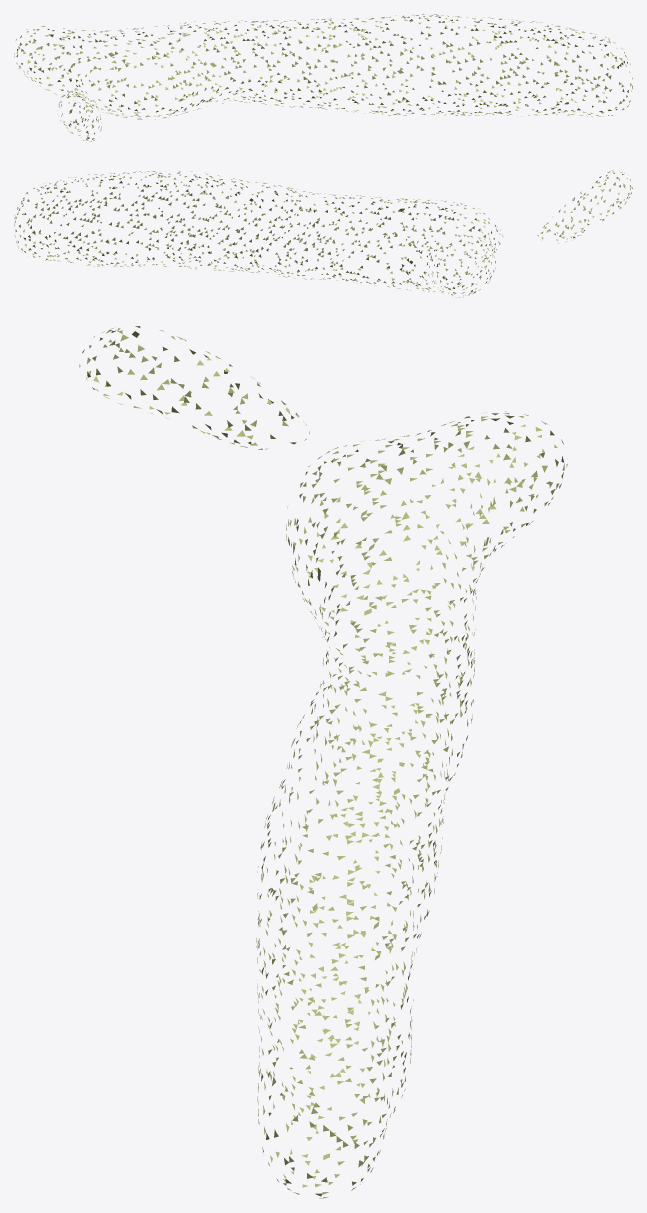
Rendered from morph_010.glb.
3 renders of one model, top to bottom at view 1: azimuth 30°, elevation 25°; view 2: azimuth 150°, elevation 25°; view 3: azimuth 270°, elevation 25°, orthographic. The views are drawn at different scales.
Bounding box in the file's own units: 122 × 36.68 × 45.94.
